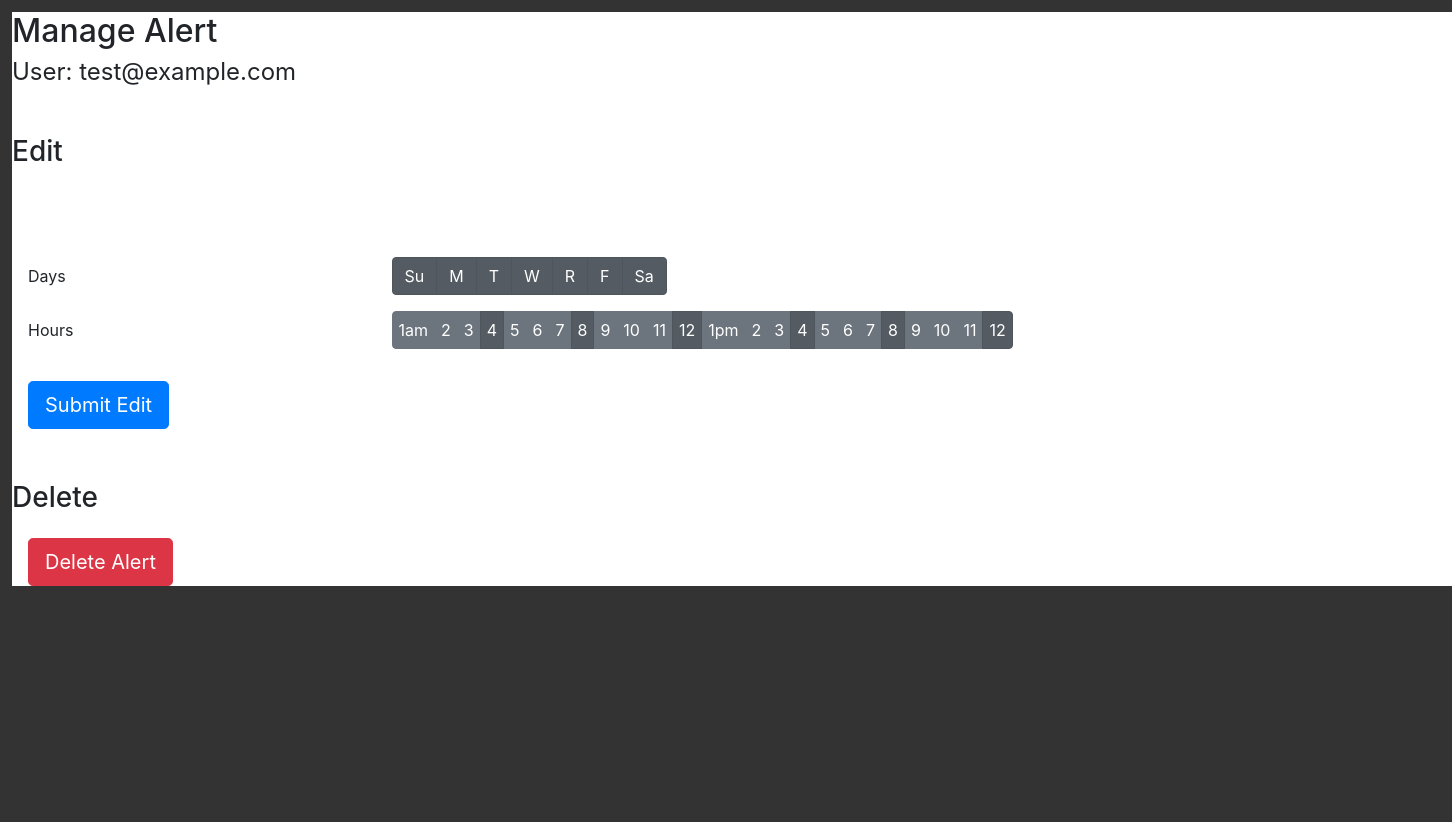
Test: AlertPage › should show message after edit is done
Click the button "Submit Edit" at (99, 405), box top-left (28, 381), bottom-right (169, 429)
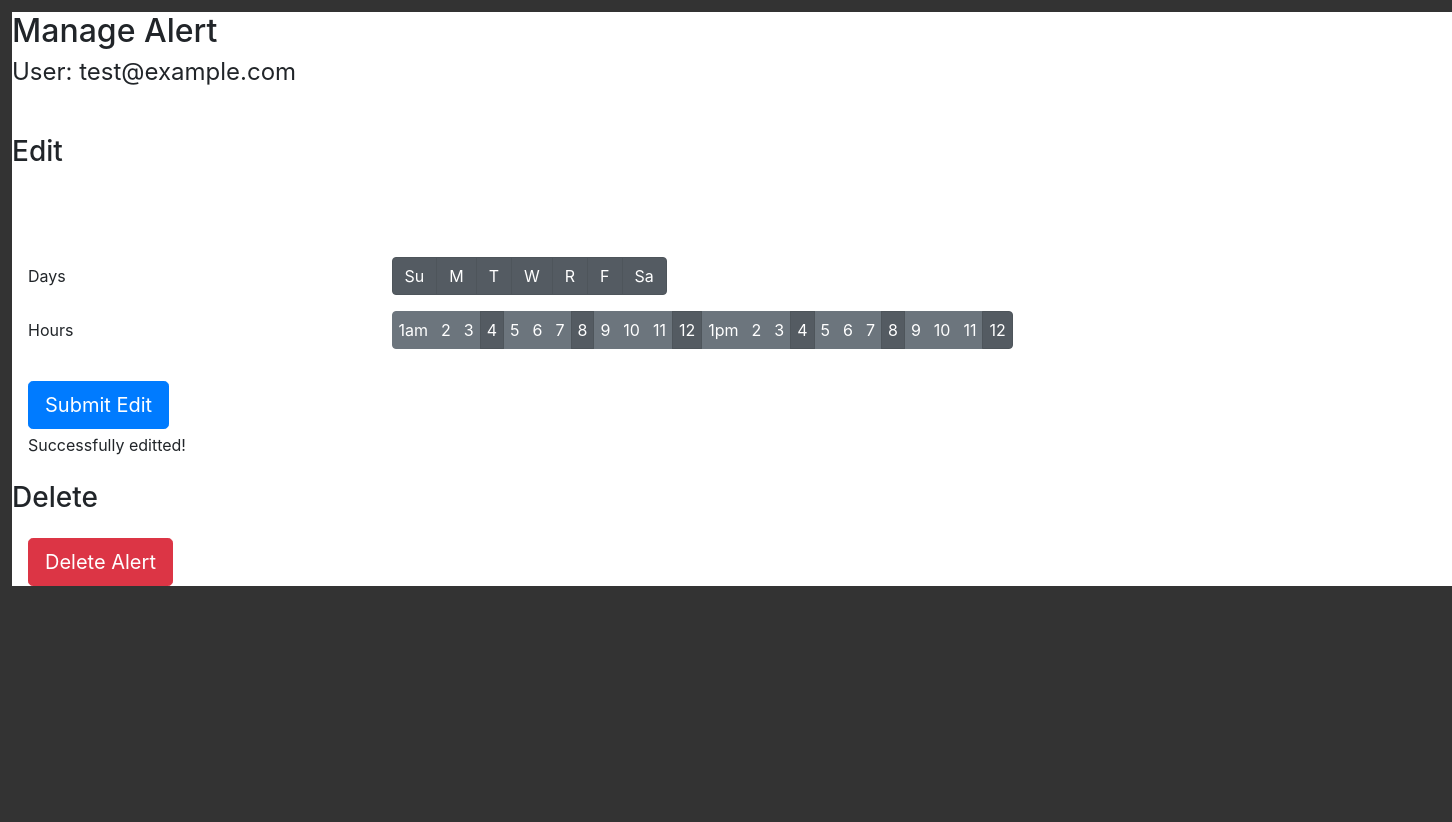
Now the text "Successfully editted!" is shown, box top-left (28, 435), bottom-right (186, 455)
